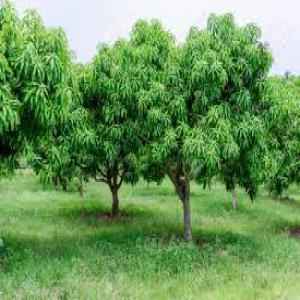Tree: (122, 8, 267, 238), (80, 33, 138, 215)
